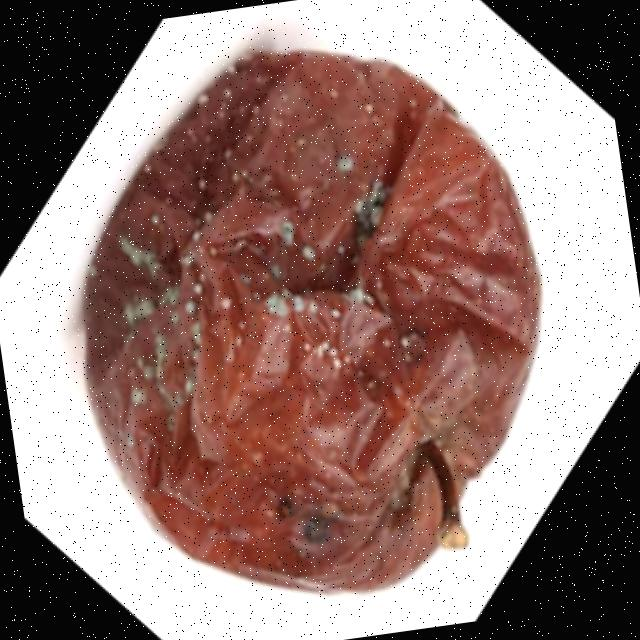Rotten: (42, 15, 588, 638)
